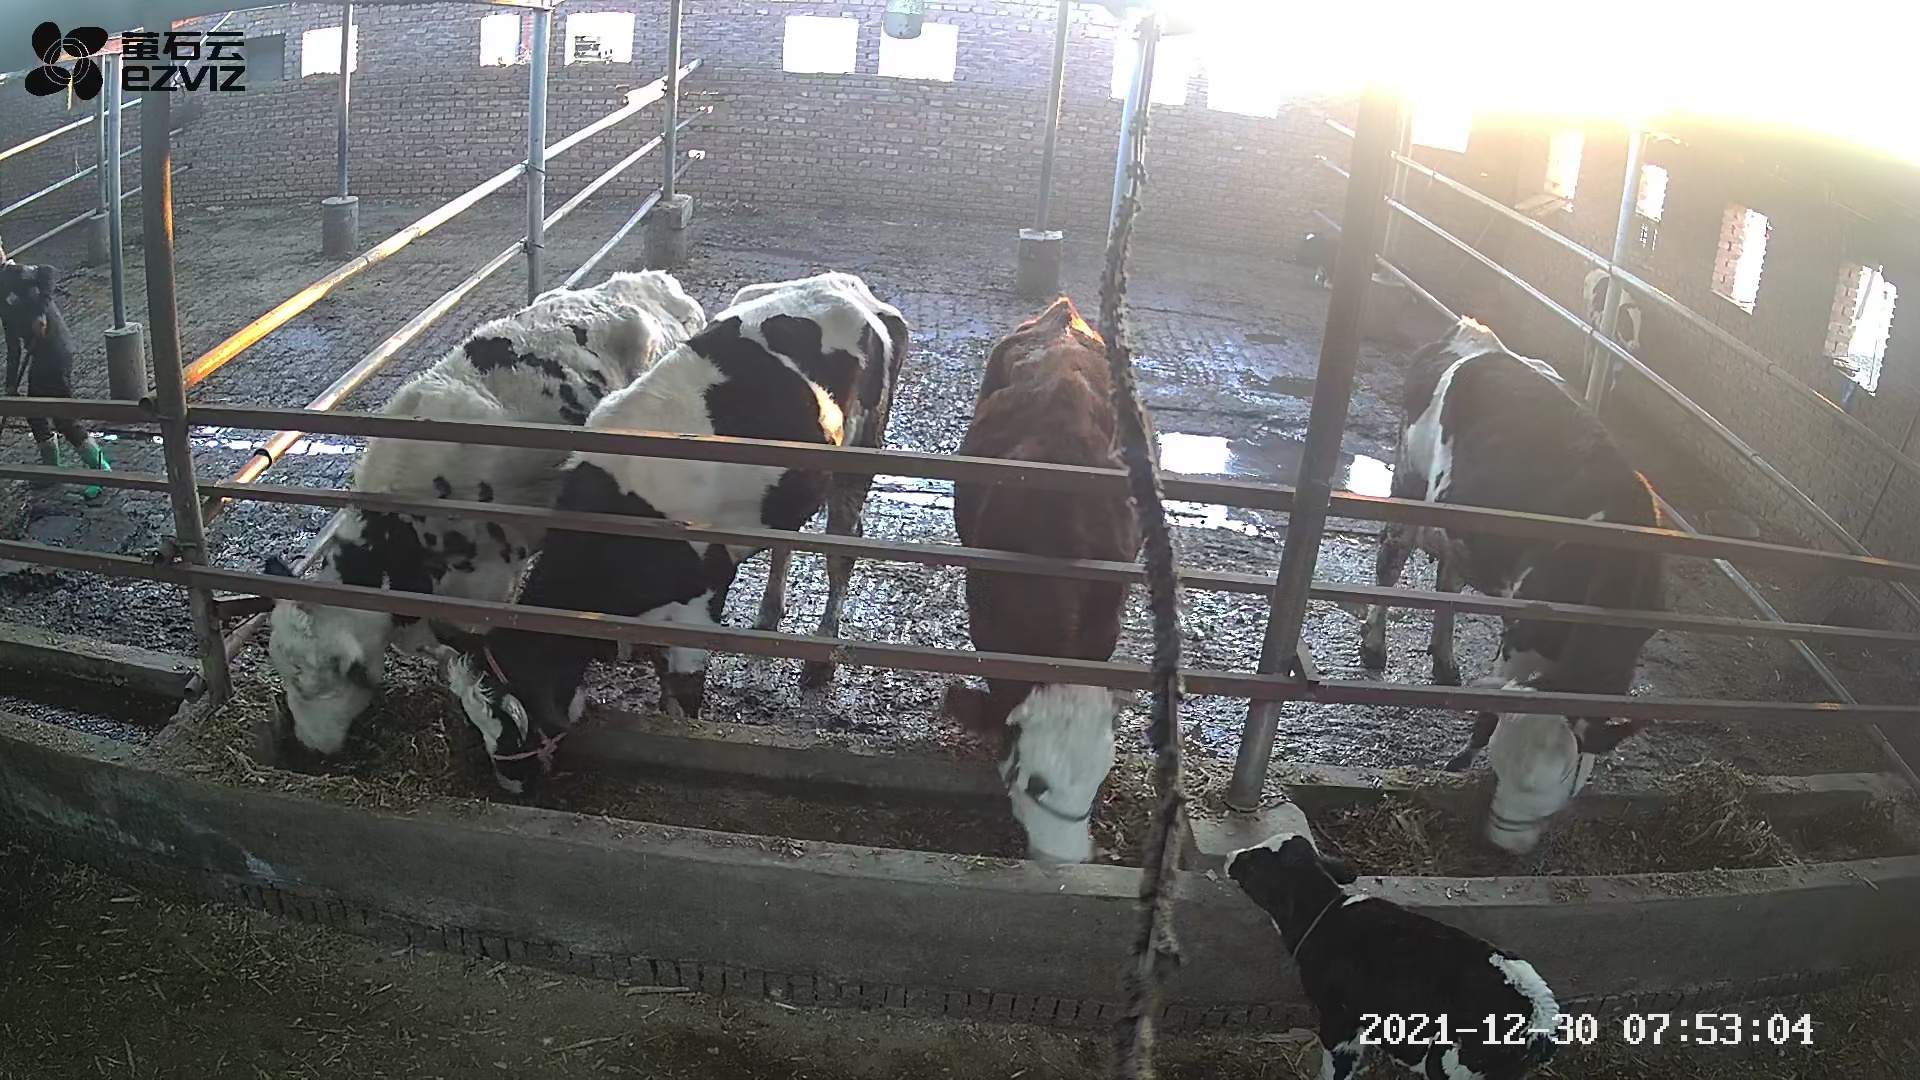cow: (411, 272, 909, 803), (261, 266, 705, 775), (1357, 315, 1664, 860), (952, 298, 1162, 862)
